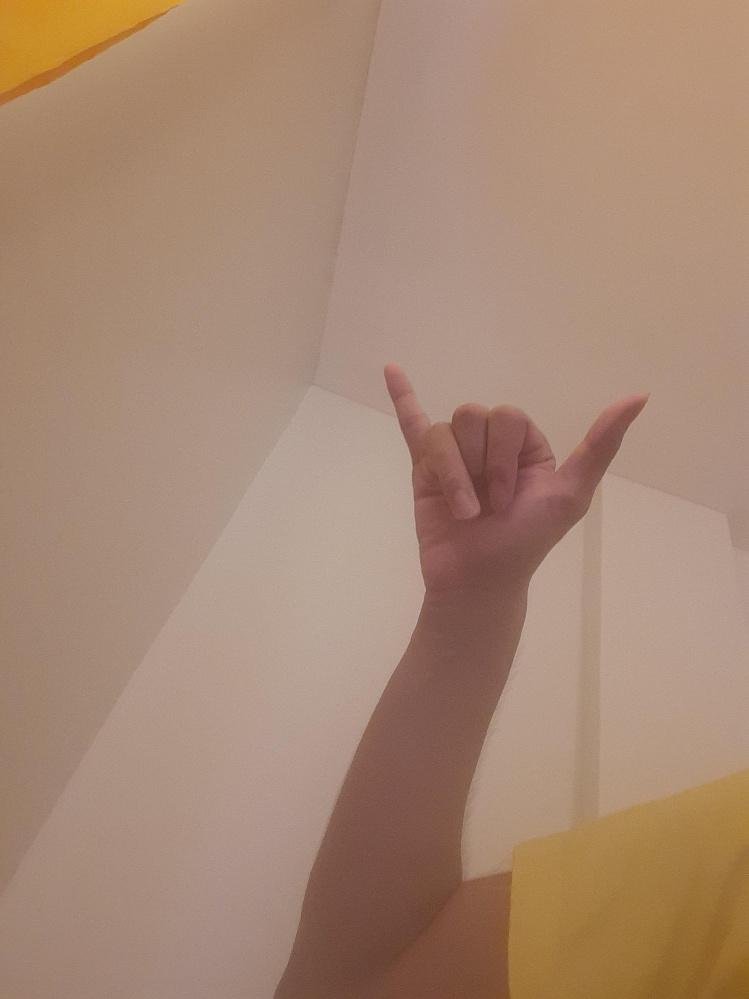y: (381, 360, 651, 579)
